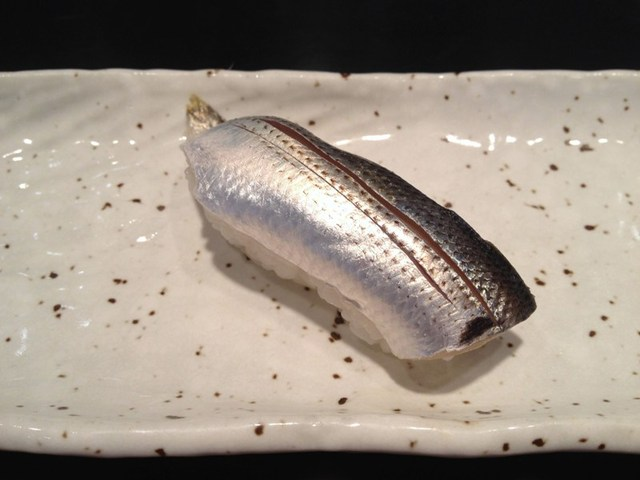spotted-shad: (177, 91, 543, 374)
